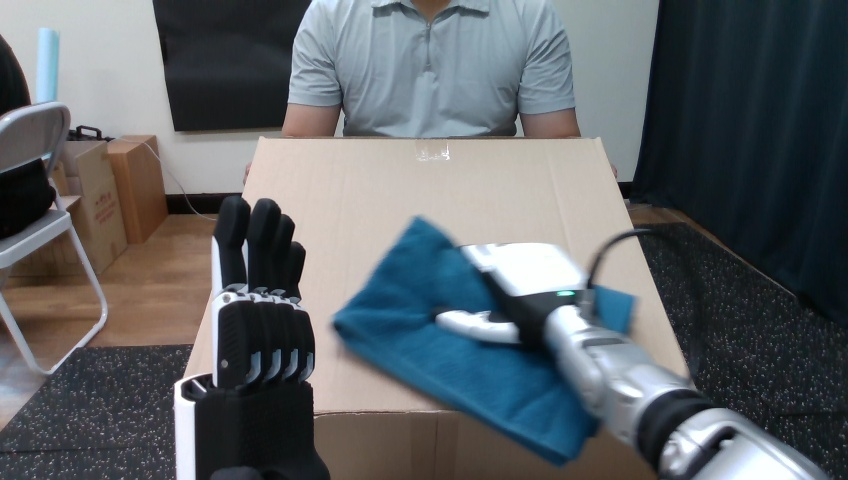left robot hand: (435, 229, 826, 479), (174, 196, 328, 478)
